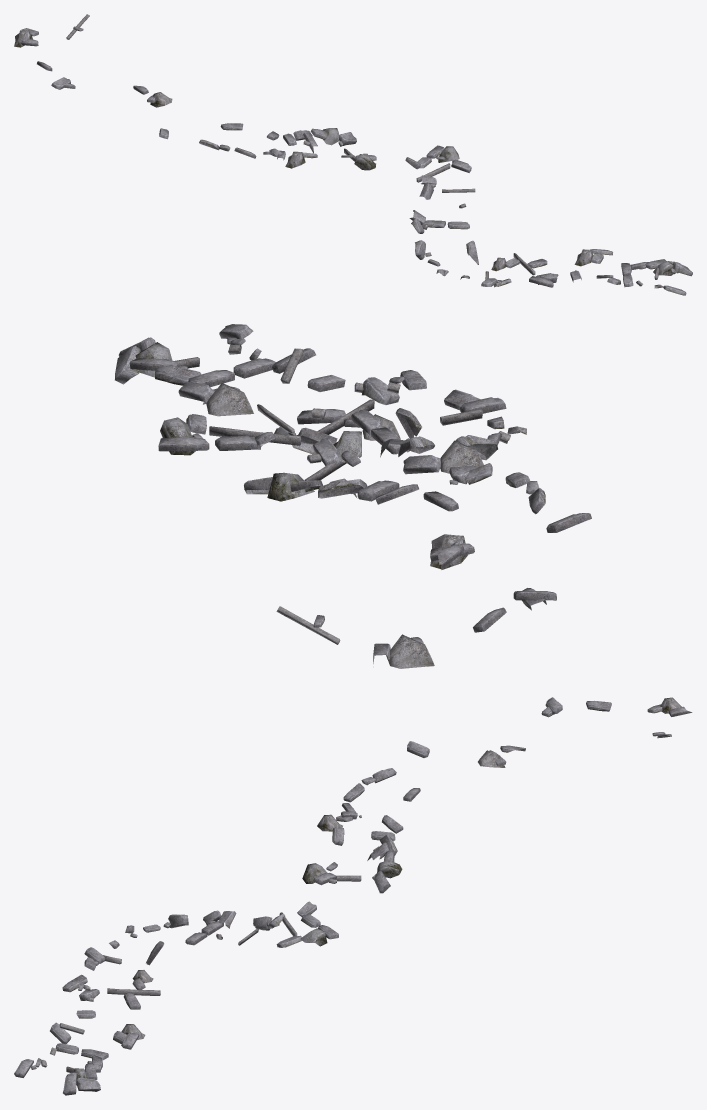
The model's file is SM_PathRocks_00.FBX.
3 views of the same model, one above another, from view 1: azimuth 30°, elevation 25°; view 2: azimuth 150°, elevation 25°; view 3: azimuth 270°, elevation 25° (orthographic). The views are drawn at different scales.
Parts seen in each view (by area): view 1: SM_PathRocks_00; view 2: SM_PathRocks_00; view 3: SM_PathRocks_00.
Part boxes in pixels (x1,y1,x2,y2): SM_PathRocks_00: (14, 14, 692, 295); SM_PathRocks_00: (115, 324, 591, 668); SM_PathRocks_00: (14, 697, 692, 1095).
Bounding box in the file's own units: 1856 × 2230 × 633.
